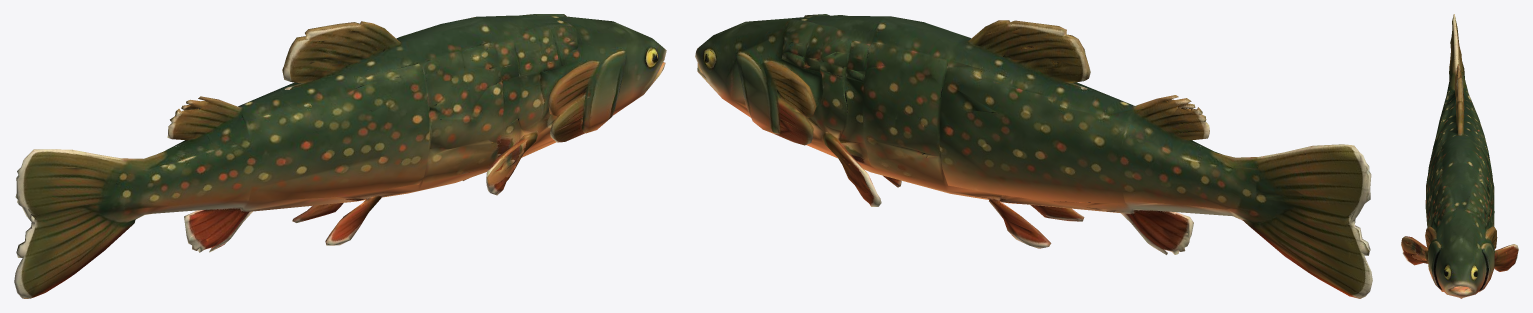
The model's file is brook_trout.glb.
The picture shows the model from 3 angles, left to right: view 1: azimuth 30°, elevation 25°; view 2: azimuth 150°, elevation 25°; view 3: azimuth 270°, elevation 25°; orthographic projection. The views are drawn at different scales.
Visible parts, largest first — view 1: fish; view 2: fish; view 3: fish.
Part boxes in pixels (left/top/right/bottom): fish: left=14, top=14, right=666, bottom=298; fish: left=695, top=14, right=1372, bottom=298; fish: left=1401, top=14, right=1518, bottom=298.
Size of the model in its own units: 1 by 0.299 by 0.2128.
1 material, 1 textured.
